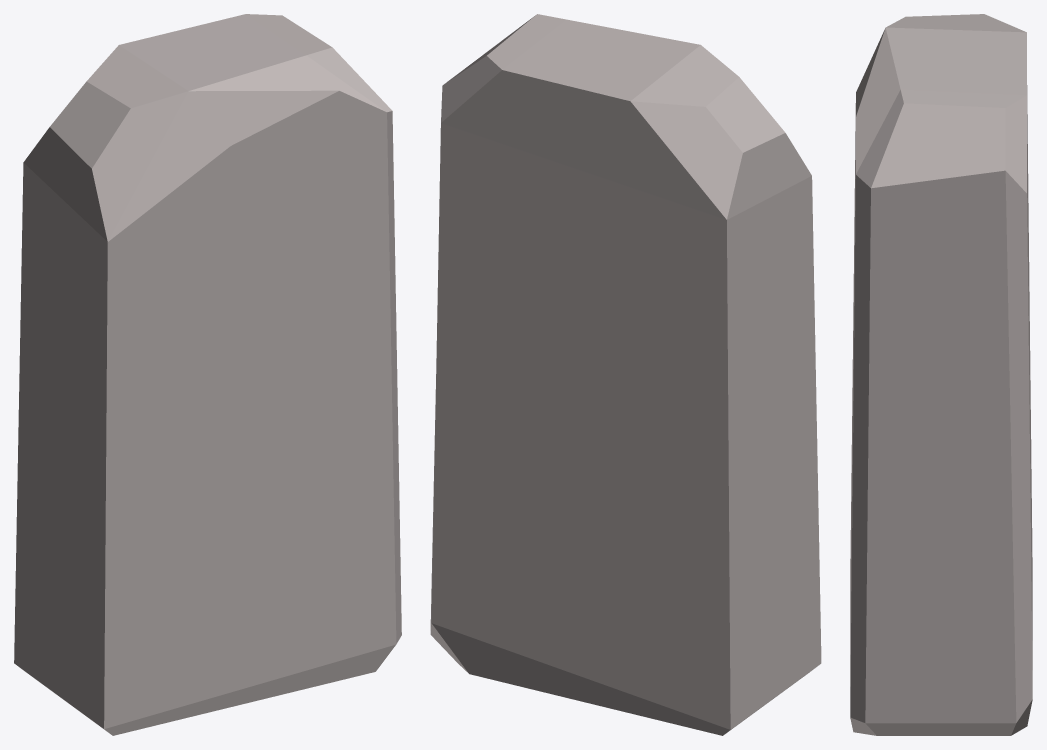
The model's file is StoneHenge_Stone5.fbx.
3 views of the same model, side by side, from view 1: azimuth 30°, elevation 25°; view 2: azimuth 150°, elevation 25°; view 3: azimuth 270°, elevation 25° (orthographic).
Parts seen in each view (by area): view 1: StoneHenge_Stone5; view 2: StoneHenge_Stone5; view 3: StoneHenge_Stone5.
Part boxes in pixels (left/top/right/bottom): StoneHenge_Stone5: left=14, top=14, right=401, bottom=735; StoneHenge_Stone5: left=430, top=14, right=821, bottom=735; StoneHenge_Stone5: left=850, top=14, right=1032, bottom=735.
Size of the model in its own units: 82.25 by 41.99 by 157.
